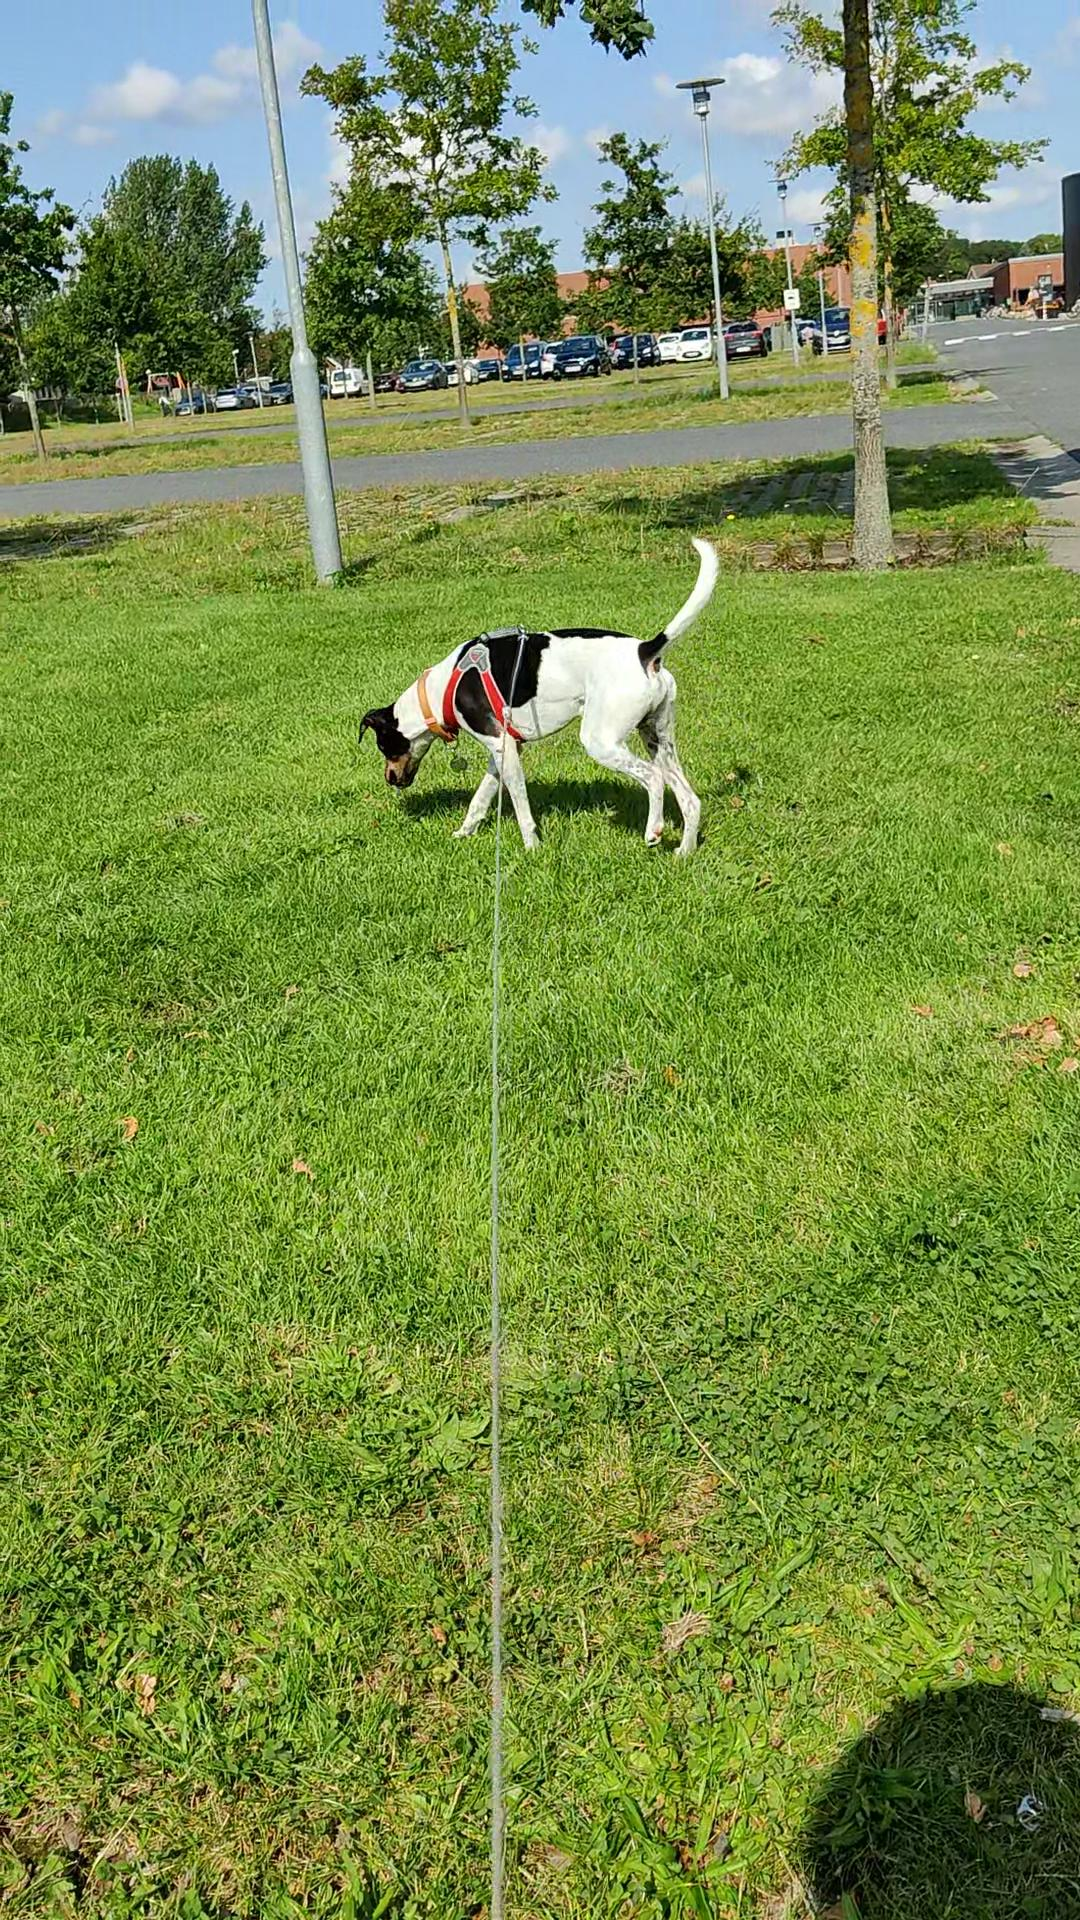Dog: (345, 516, 761, 880)
